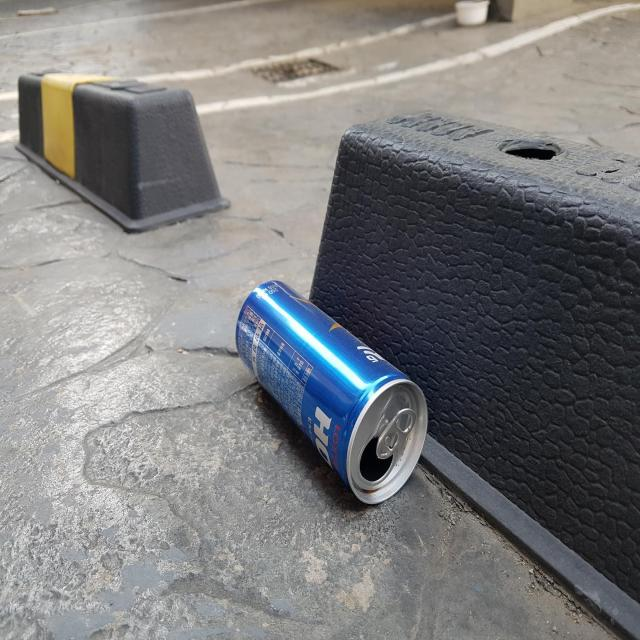can: (236, 280, 428, 505)
